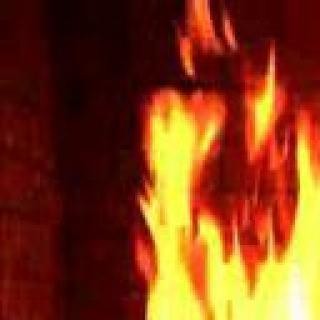fire: (117, 63, 320, 320)
